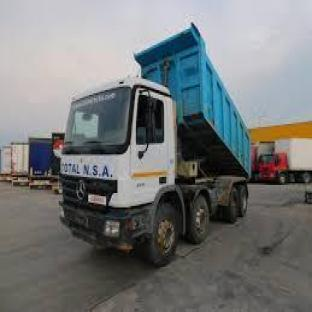Vehicle: (33, 46, 259, 258)
